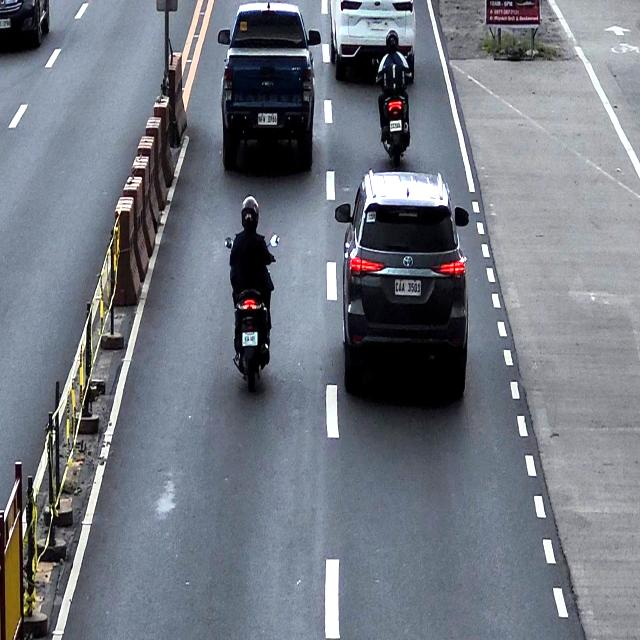Car: (333, 170, 470, 402), (217, 0, 322, 177), (329, 0, 416, 84), (0, 0, 51, 51)
License-Plate: (394, 277, 422, 299), (364, 16, 389, 33), (257, 111, 278, 125), (242, 331, 258, 346), (390, 120, 402, 132), (0, 18, 12, 29)
Motorcycle: (224, 232, 281, 392), (372, 51, 414, 164)
